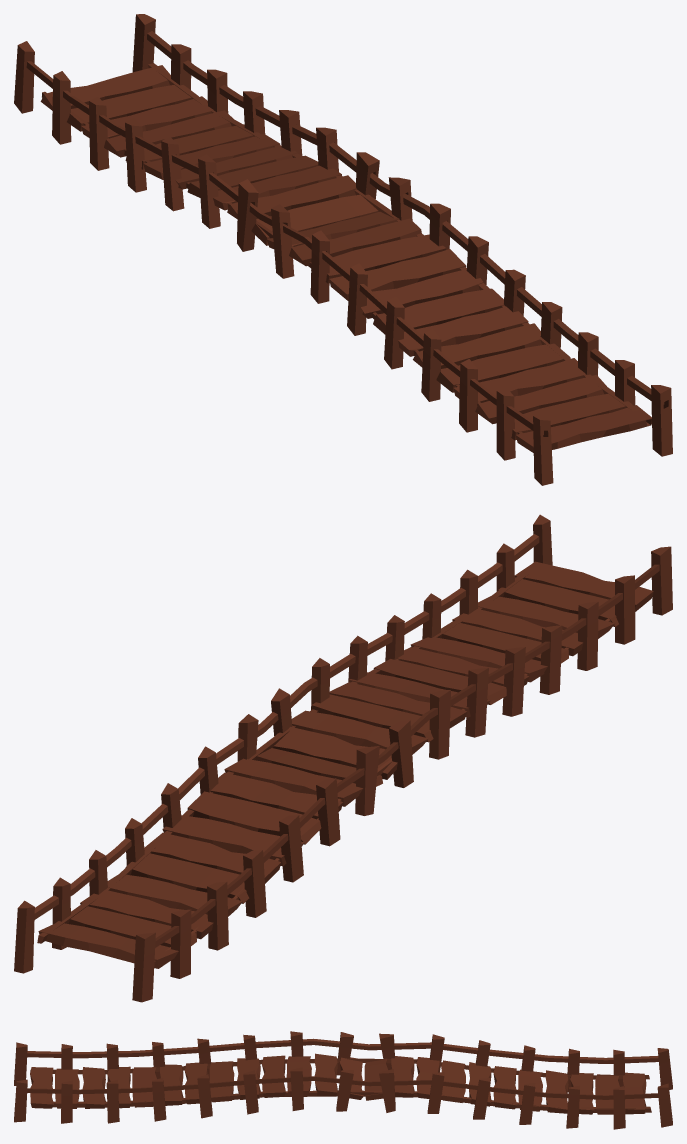
The model's file is ponte.fbx.
The picture shows the model from 3 angles, top to bottom: view 1: azimuth 30°, elevation 25°; view 2: azimuth 150°, elevation 25°; view 3: azimuth 270°, elevation 25°; orthographic projection. The views are drawn at different scales.
Parts seen in each view (by area): view 1: Cube, Cube.001, Cube.002; view 2: Cube, Cube.001, Cube.002; view 3: Cube, Cube.001, Cube.002.
Part boxes in pixels (x1,y1,x2,y2): Cube: (40,63,651,452); Cube.001: (14,14,672,485); Cube.002: (26,31,664,434); Cube: (37,561,653,968); Cube.001: (14,514,672,1002); Cube.002: (34,534,659,947); Cube: (30,1053,651,1114); Cube.001: (14,1031,672,1129); Cube.002: (27,1038,658,1099).
Size of the model in its own units: 435 by 301 by 3041.
